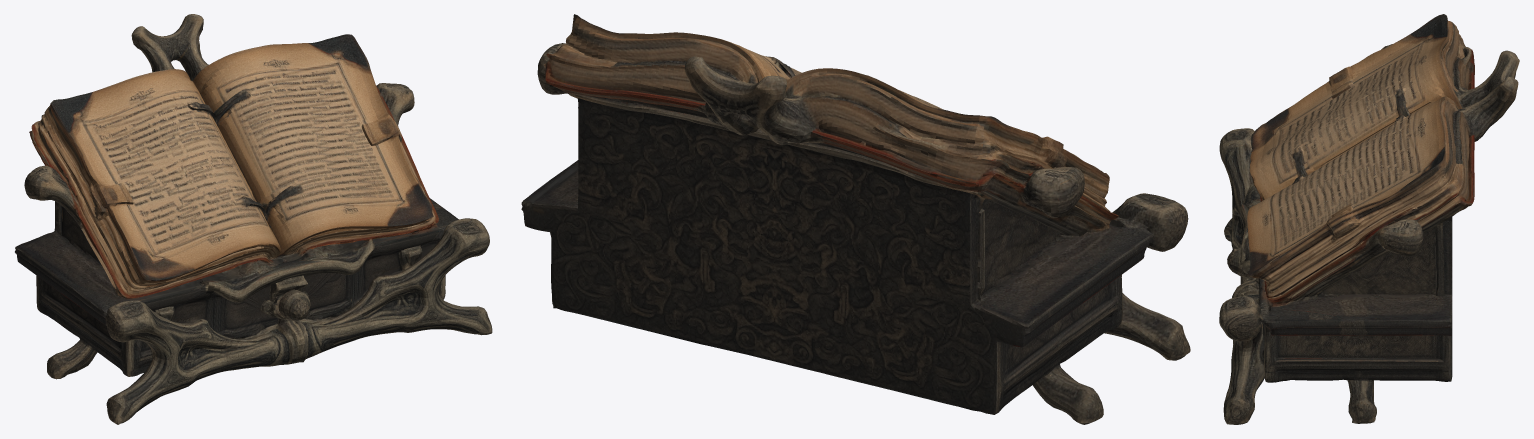
The model's file is p2_04_bone_lectern.fbx.
3 renders of one model, left to right at view 1: azimuth 30°, elevation 25°; view 2: azimuth 150°, elevation 25°; view 3: azimuth 270°, elevation 25°, orthographic. The views are drawn at different scales.
Visible parts, largest first — view 1: temp; view 2: temp; view 3: temp.
Part boxes in pixels (left/top/right/bottom): temp: left=15, top=14, right=492, bottom=424; temp: left=521, top=14, right=1190, bottom=424; temp: left=1219, top=14, right=1519, bottom=424.
Size of the model in its own units: 190 by 123 by 126.
Materials: 1 (1 with a texture image).
